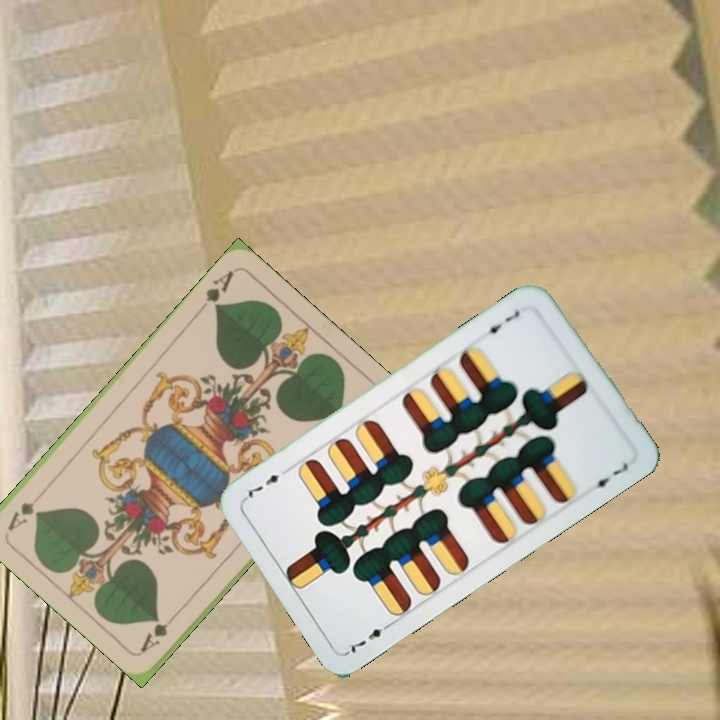E7: (343, 618, 396, 656), (479, 305, 523, 337)
GA: (136, 606, 182, 655), (194, 266, 237, 316)
